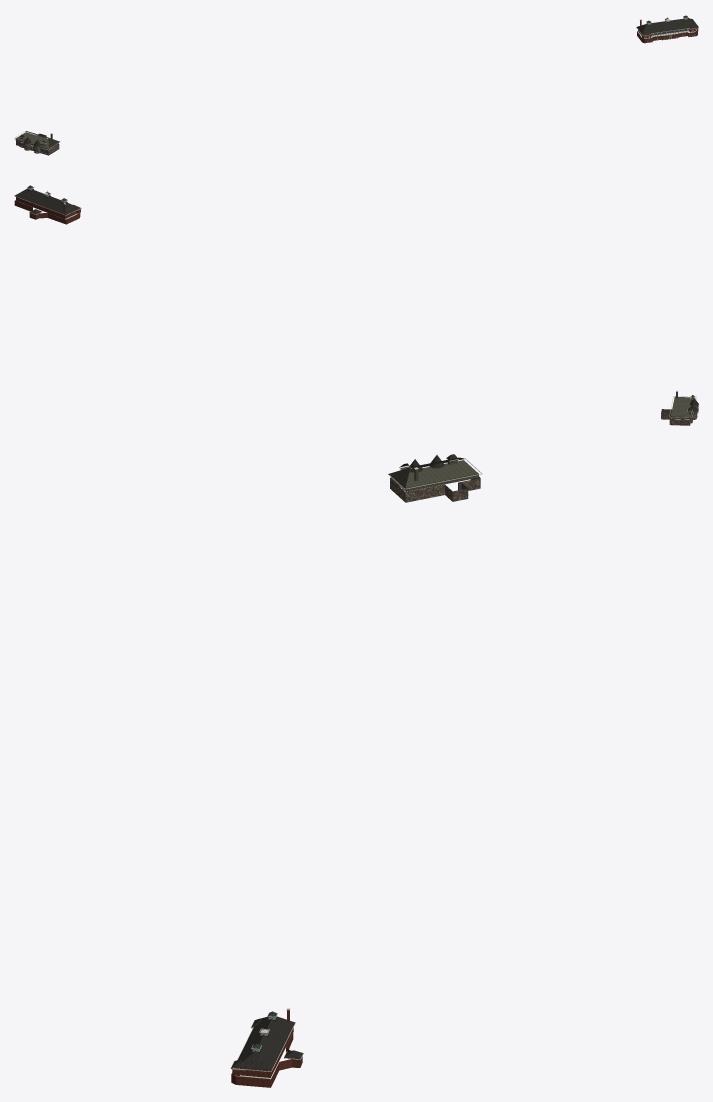
File: reference-architecture.glb
3 views of the same model, one above another, from view 1: azimuth 30°, elevation 25°; view 2: azimuth 150°, elevation 25°; view 3: azimuth 270°, elevation 25° (orthographic). The views are drawn at different scales.
Visible parts, largest first — view 1: Athletic_Pavilion Brown grey roof shingles, Athletic_Pavilion Pavilion weathered red brick, Police_Headquarters Police grey shingles; view 2: Athletic_Pavilion Brown grey roof shingles, Athletic_Pavilion Pavilion weathered red brick, Police_Headquarters Police grey shingles; view 3: Athletic_Pavilion Brown grey roof shingles, Police_Headquarters Police grey shingles, Athletic_Pavilion Pavilion weathered red brick.
Boxes of the visible parts, box(x1,y1,x2,y2) form: Athletic_Pavilion Brown grey roof shingles: box(636, 18, 698, 35); Athletic_Pavilion Pavilion weathered red brick: box(637, 20, 698, 43); Police_Headquarters Police grey shingles: box(15, 132, 58, 149); Athletic_Pavilion Brown grey roof shingles: box(14, 188, 81, 215); Athletic_Pavilion Pavilion weathered red brick: box(14, 197, 80, 224); Police_Headquarters Police grey shingles: box(670, 396, 695, 418); Athletic_Pavilion Brown grey roof shingles: box(231, 1016, 303, 1071); Police_Headquarters Police grey shingles: box(400, 460, 478, 490); Athletic_Pavilion Pavilion weathered red brick: box(231, 1010, 302, 1087).
Bounding box in the file's own units: 562 × 15.55 × 97.36.
Materials: 14 (4 with a texture image).
